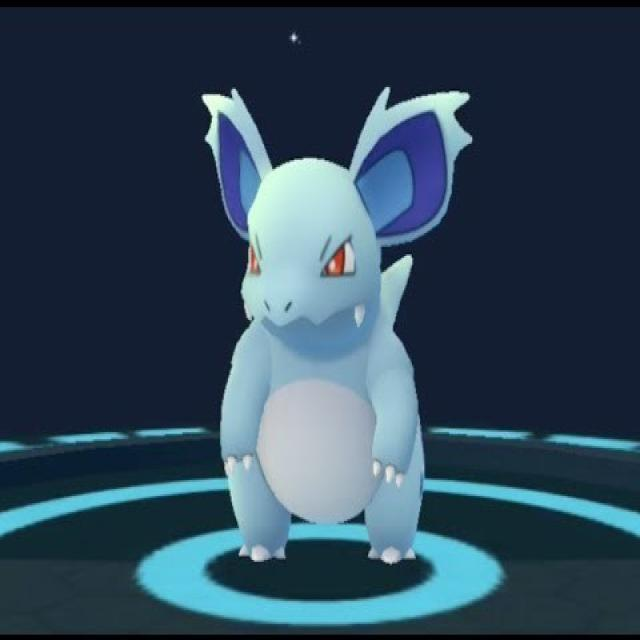Nidorina: (184, 77, 477, 584)
